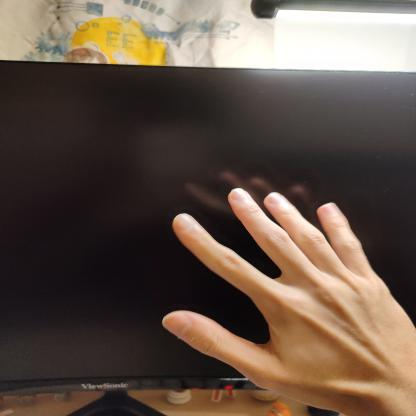bare_hand: (145, 176, 415, 415)
